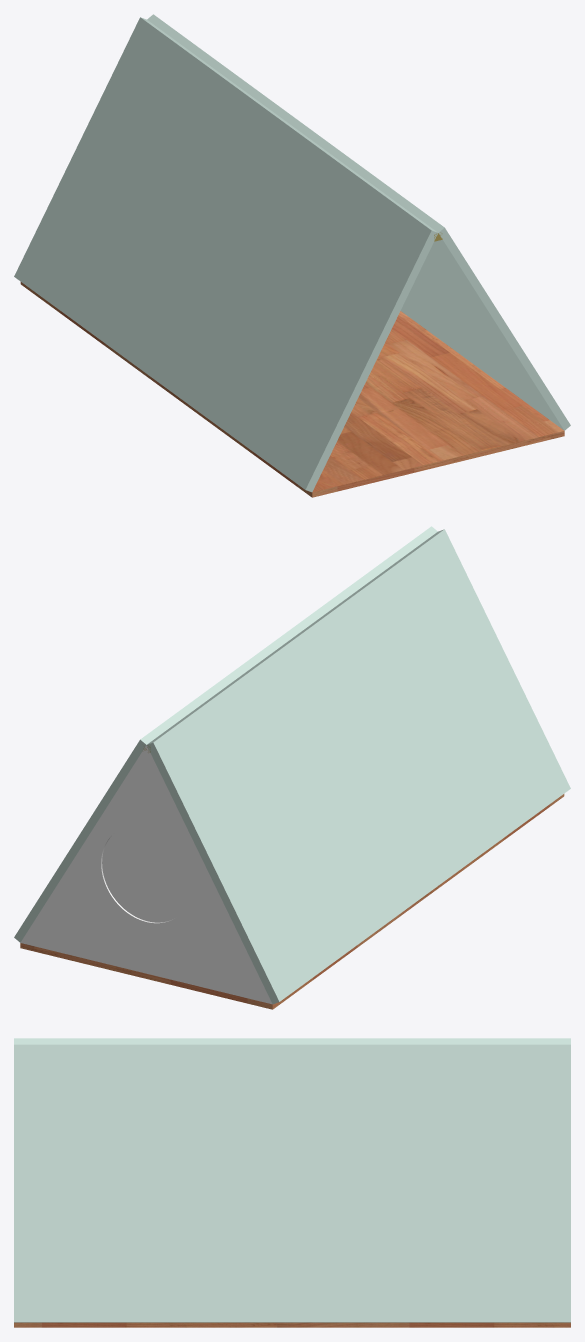
Rendered from 1Raum 3D_Test.fbx.
3 renders of one model, top to bottom at view 1: azimuth 30°, elevation 25°; view 2: azimuth 150°, elevation 25°; view 3: azimuth 270°, elevation 25°, orthographic. The views are drawn at different scales.
Visible parts, largest first — view 1: Vollkörper_Addition, Extrusionskörper, Vollkörper_Subtraktion; view 2: Vollkörper_Addition, Vollkörper_Subtraktion_2, Extrusionskörper_2, Vollkörper_Subtraktion, Extrusionskörper; view 3: Vollkörper_Subtraktion, Vollkörper_Addition, Extrusionskörper.
Boxes of the visible parts, x1=… form: Vollkörper_Addition: x1=14, y1=17, x2=438, y2=492; Extrusionskörper: x1=20, y1=282, x2=564, y2=497; Vollkörper_Subtraktion: x1=147, y1=14, x2=570, y2=430; Vollkörper_Addition: x1=146, y1=529, x2=570, y2=1004; Vollkörper_Subtraktion_2: x1=20, y1=745, x2=272, y2=1004; Extrusionskörper_2: x1=102, y1=825, x2=191, y2=922; Vollkörper_Subtraktion: x1=14, y1=526, x2=437, y2=942; Extrusionskörper: x1=20, y1=794, x2=564, y2=1009; Vollkörper_Subtraktion: x1=14, y1=1044, x2=570, y2=1322; Vollkörper_Addition: x1=14, y1=1038, x2=570, y2=1044; Extrusionskörper: x1=14, y1=1322, x2=570, y2=1327.
Bounding box in the file's own units: 5260 × 4508 × 10000.
Materials: 7 (1 with a texture image).
